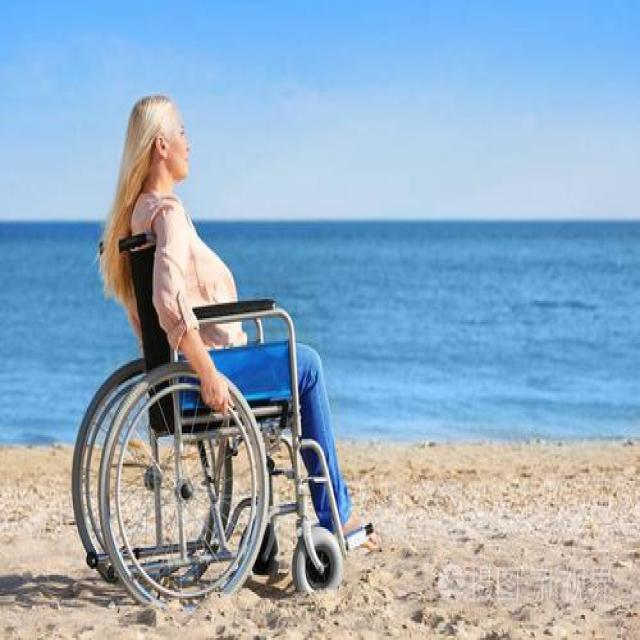wheelchairs: (68, 231, 376, 601)
